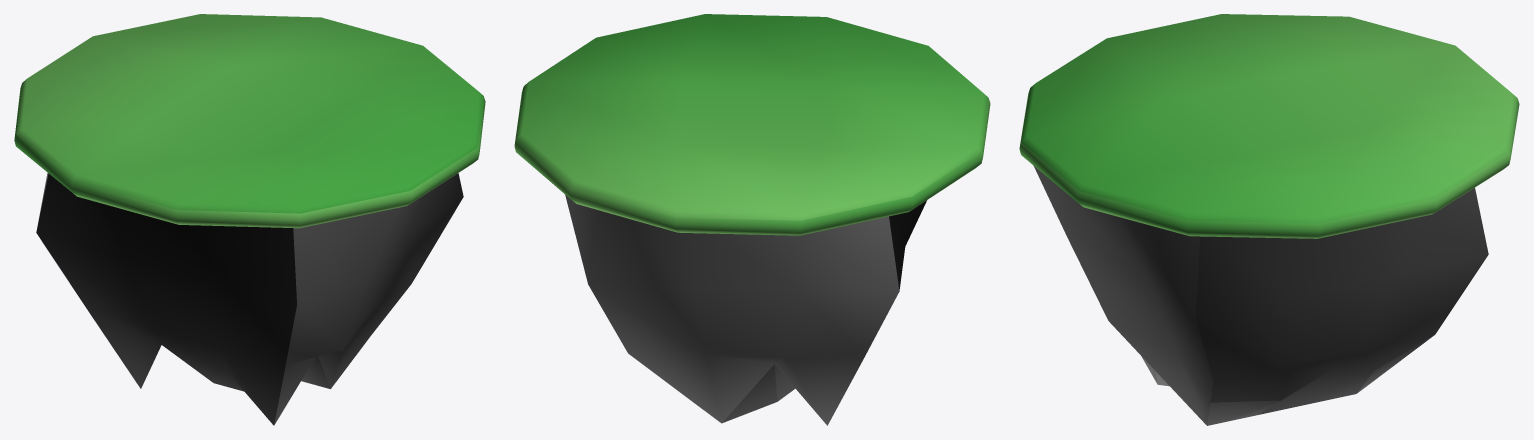
File: Floating Island.fbx
3 renders of one model, left to right at view 1: azimuth 30°, elevation 25°; view 2: azimuth 150°, elevation 25°; view 3: azimuth 270°, elevation 25°, orthographic. The views are drawn at different scales.
Visible parts, largest first — view 1: Floating Island; view 2: Floating Island; view 3: Floating Island.
Boxes of the visible parts, <box> form: Floating Island: <box>14,14,485,425</box>; Floating Island: <box>514,14,990,425</box>; Floating Island: <box>1019,14,1519,425</box>.
Size of the model in its own units: 2.98 by 1.9 by 3.03.
Materials: 1 (1 with a texture image).
